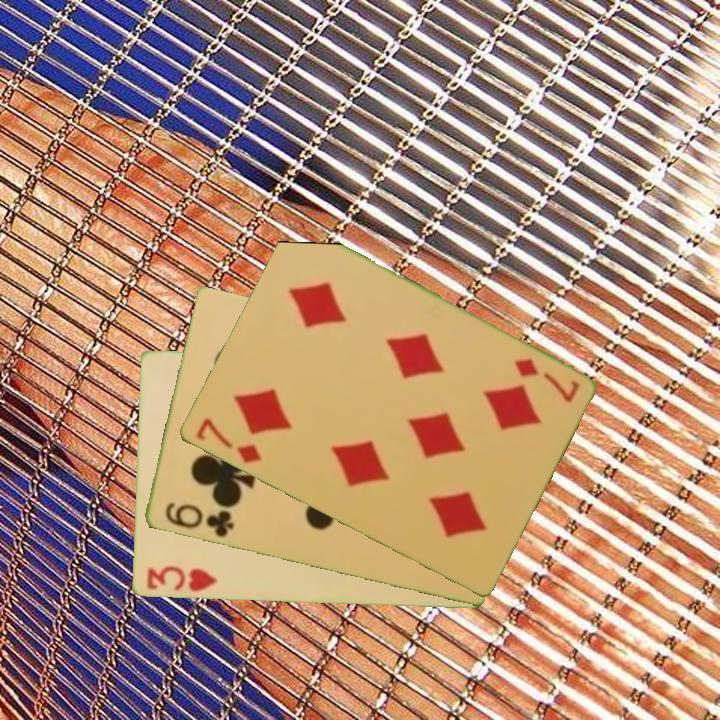3h: (143, 563, 220, 595)
6c: (161, 498, 237, 541)
7d: (192, 414, 265, 467), (510, 355, 583, 406)
